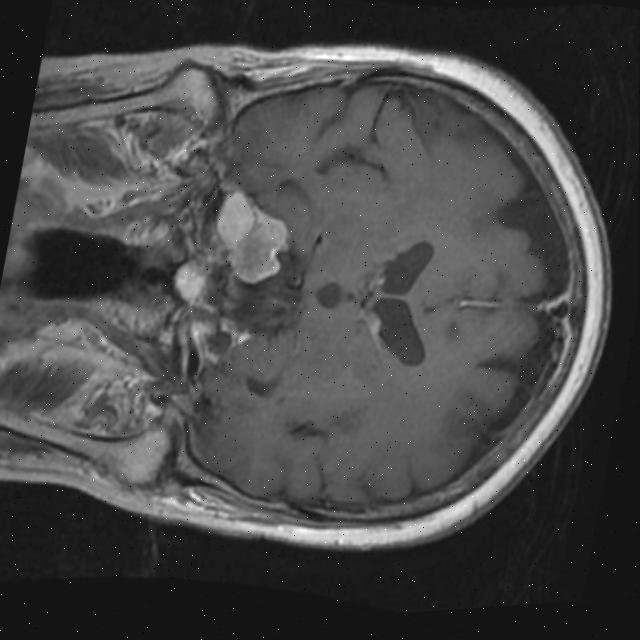Meningioma: (205, 184, 297, 292)
Pituitary: (167, 256, 208, 308)
